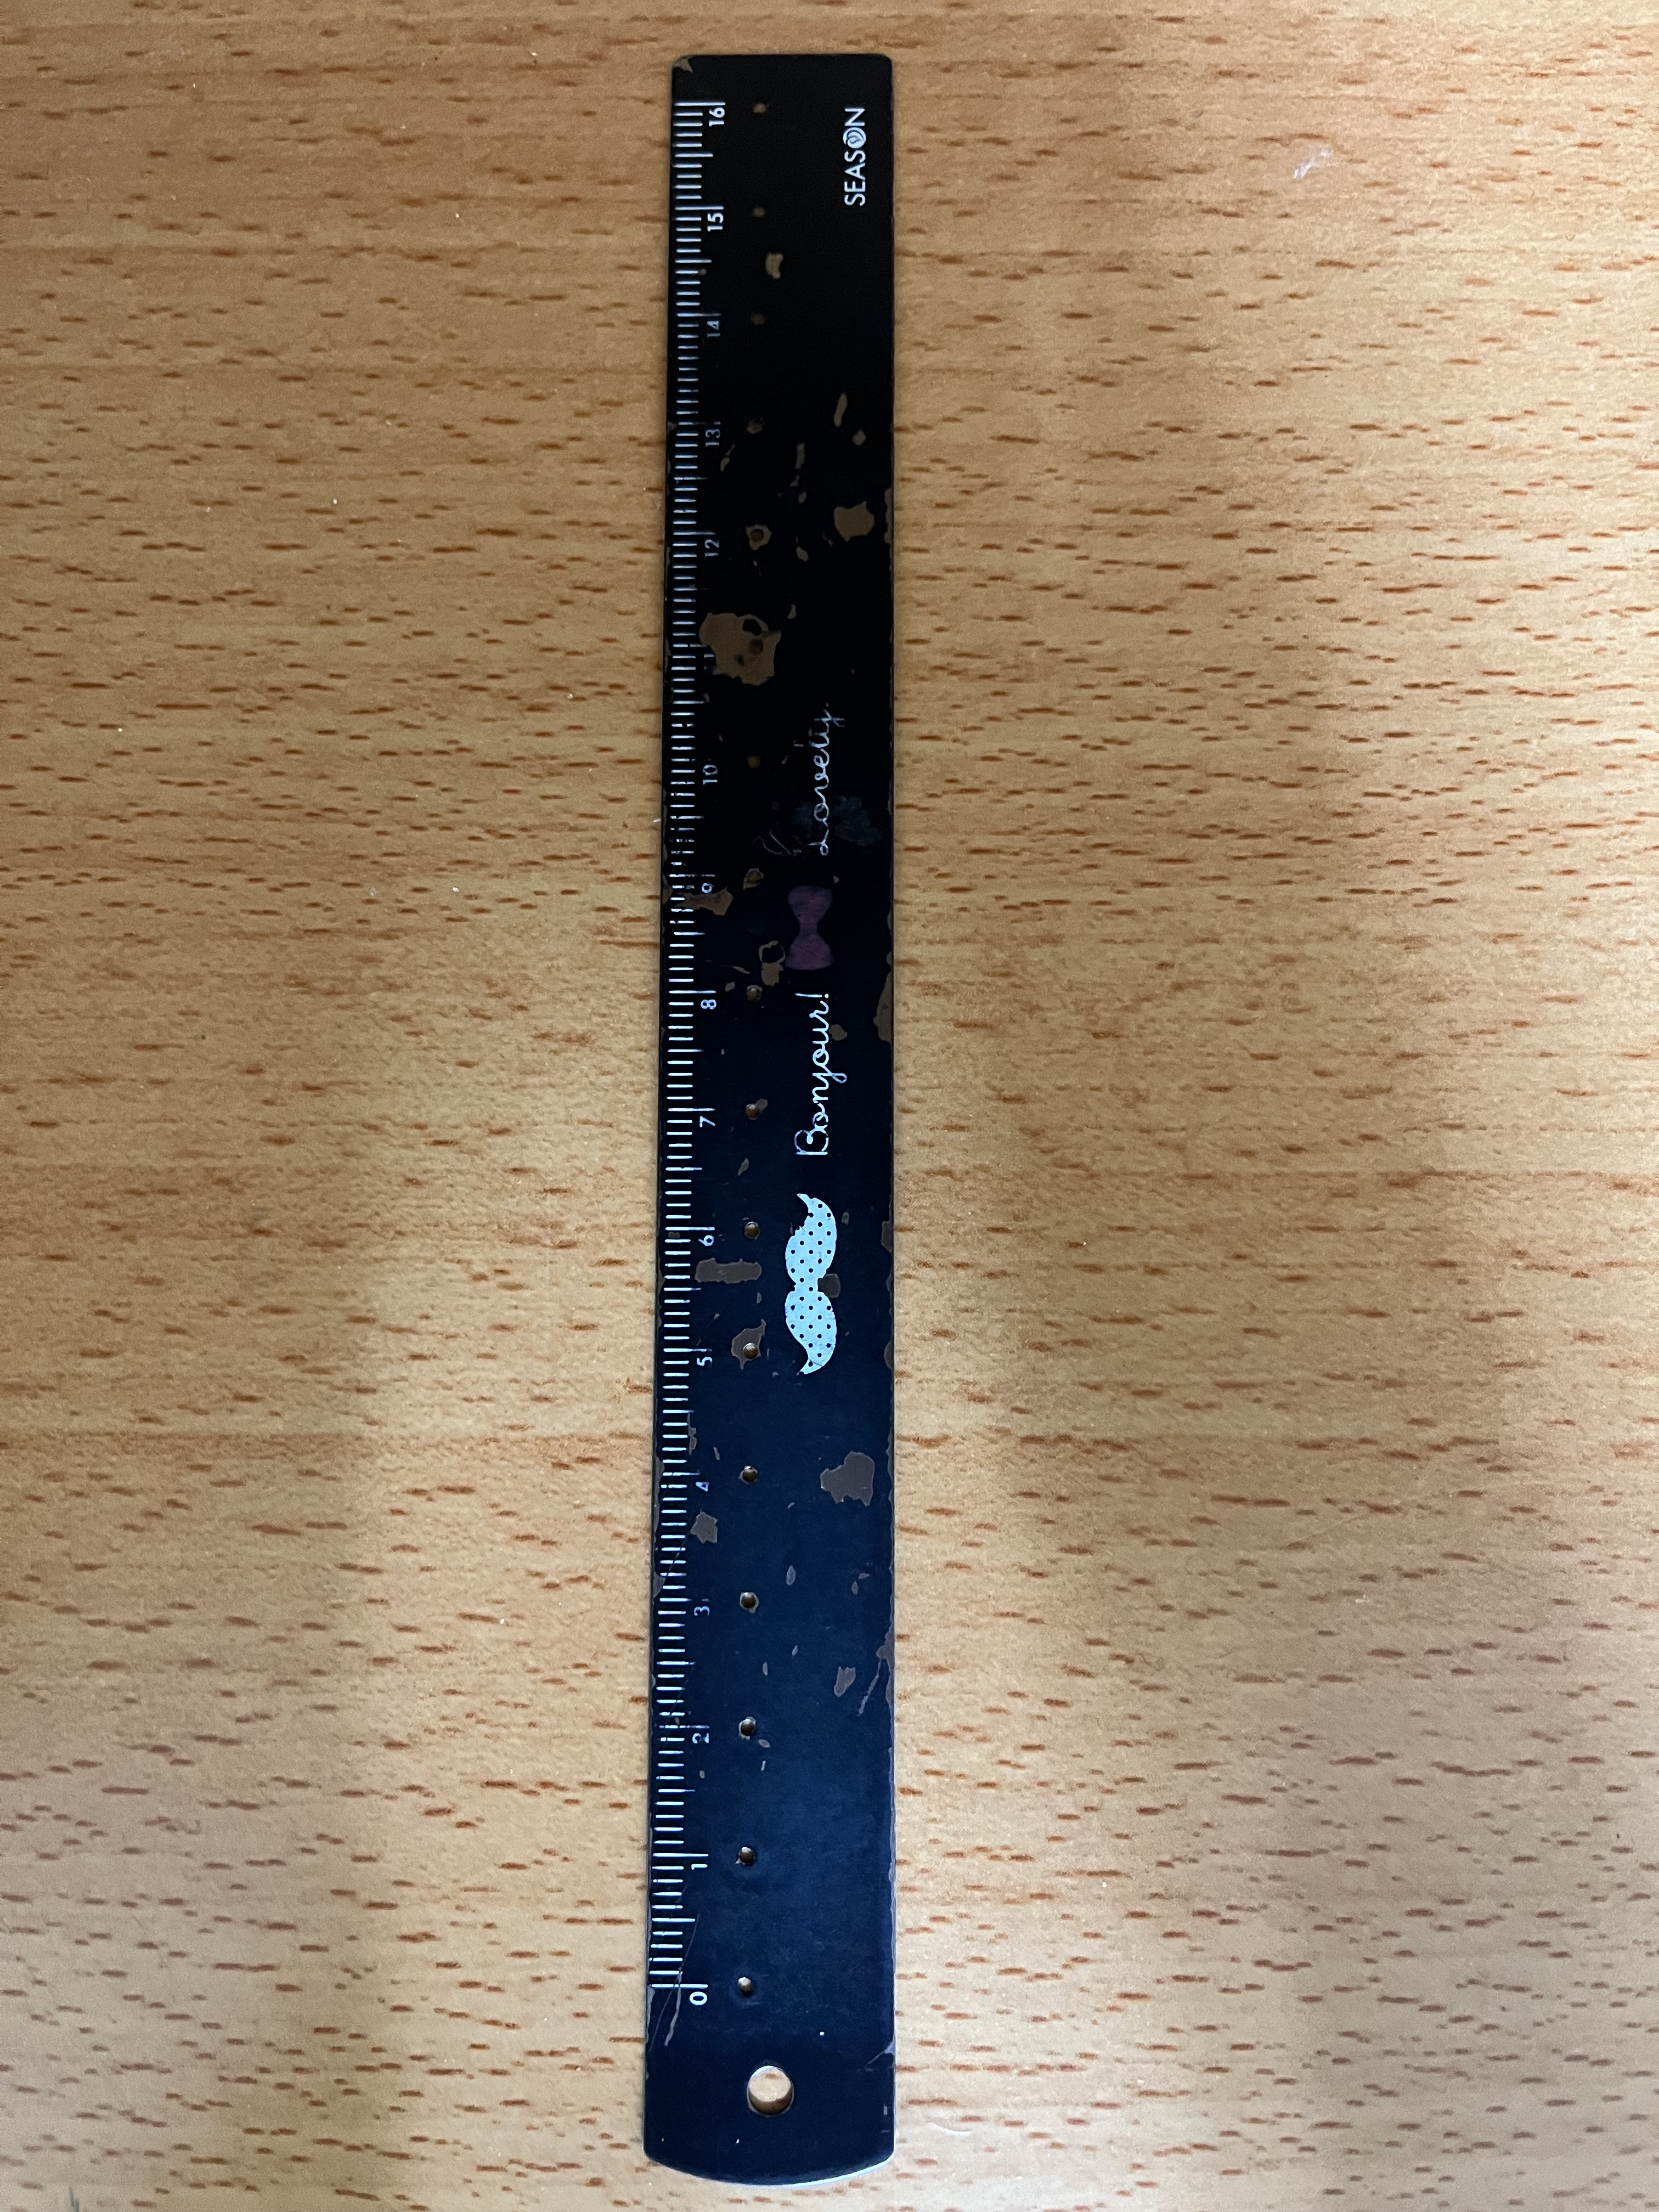ruler: (617, 31, 936, 2195)
